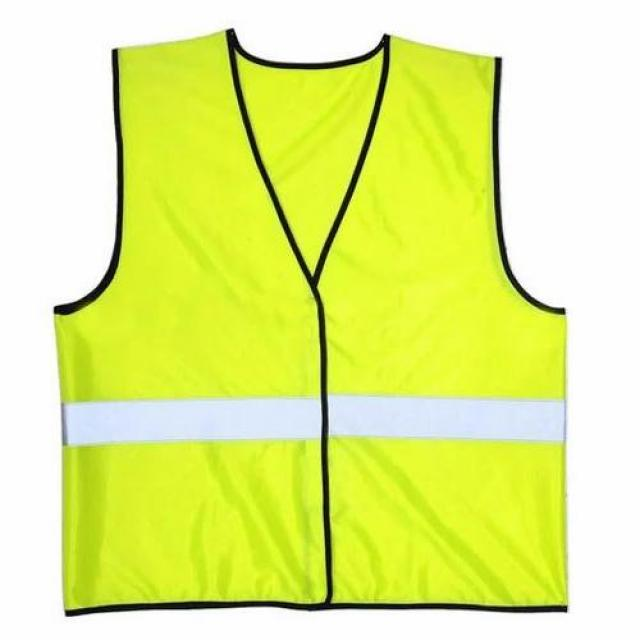Reflective-Jacket: (5, 15, 615, 638)
